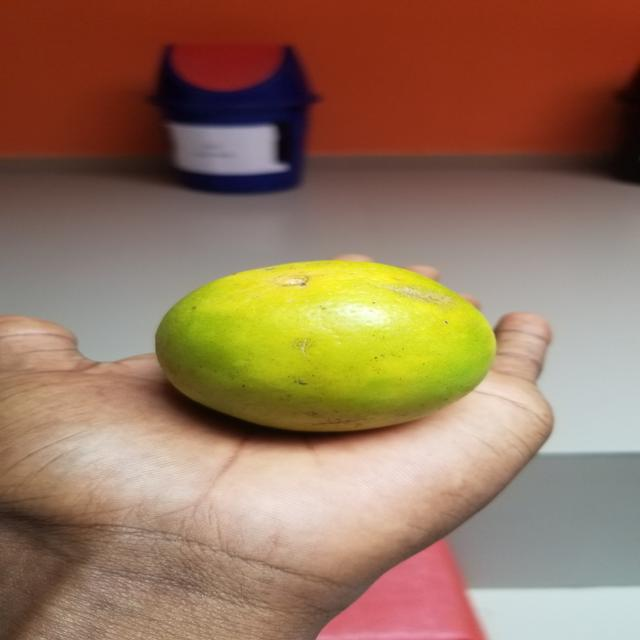Ripe orange: (105, 232, 506, 438)
